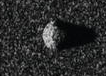mine: (40, 18, 100, 50)
